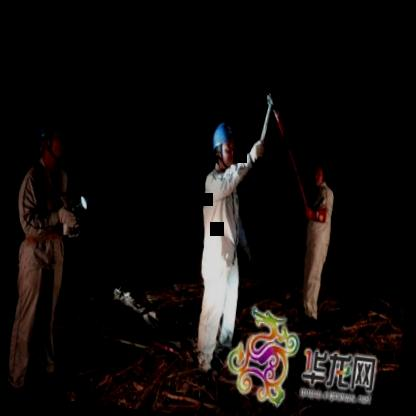helmet: (28, 103, 72, 171), (206, 112, 240, 176), (308, 155, 330, 188)
